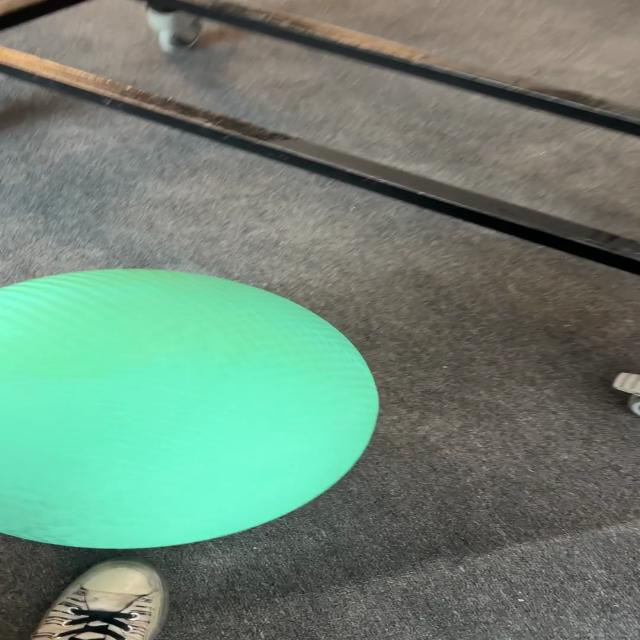Algae: (1, 267, 380, 550)
